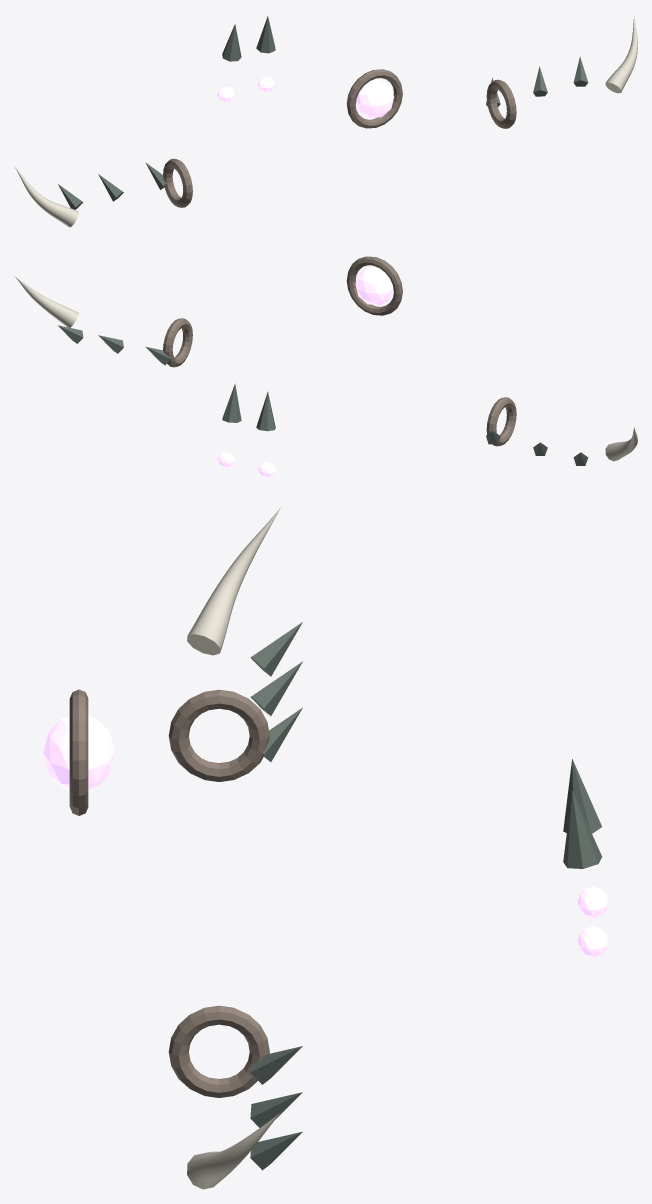
File: mob_bat-decor.glb
The picture shows the model from 3 angles, top to bottom: view 1: azimuth 30°, elevation 25°; view 2: azimuth 150°, elevation 25°; view 3: azimuth 270°, elevation 25°; orthographic projection. The views are drawn at different scales.
Parts seen in each view (by area): view 1: mob_bat_decor; view 2: mob_bat_decor; view 3: mob_bat_decor.
Boxes of the visible parts, bbox=[...] form: mob_bat_decor: bbox=[14, 15, 637, 227]; mob_bat_decor: bbox=[14, 256, 637, 477]; mob_bat_decor: bbox=[43, 507, 608, 1189].
Bounding box in the file's own units: 1.84 × 0.347 × 0.726.
